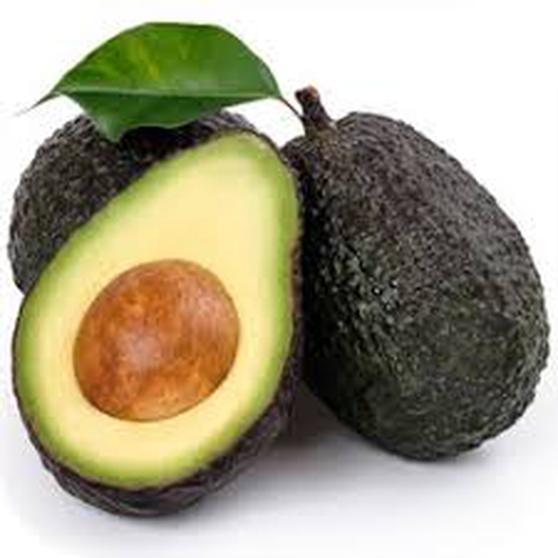avocado: (238, 78, 558, 466)
